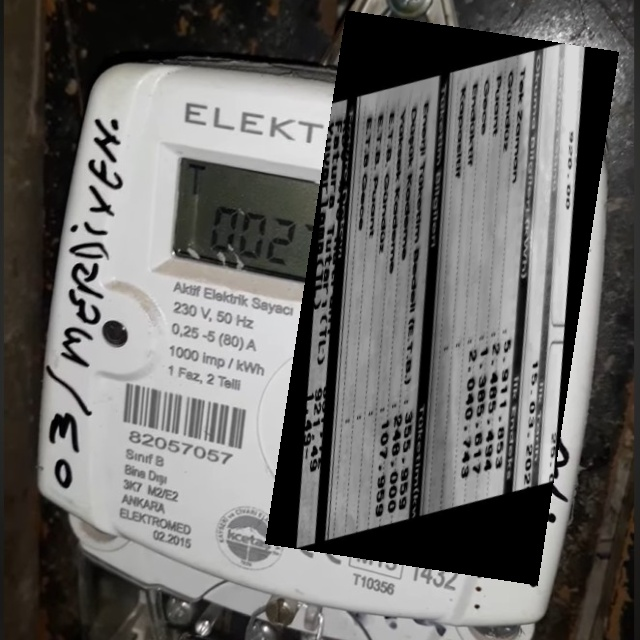electricity-bill: (265, 10, 619, 586)
